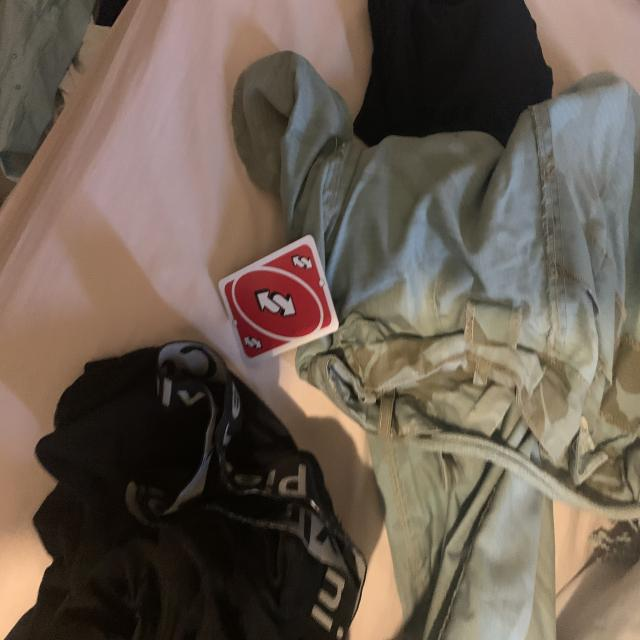lredrevers-20: (290, 252, 314, 275)
